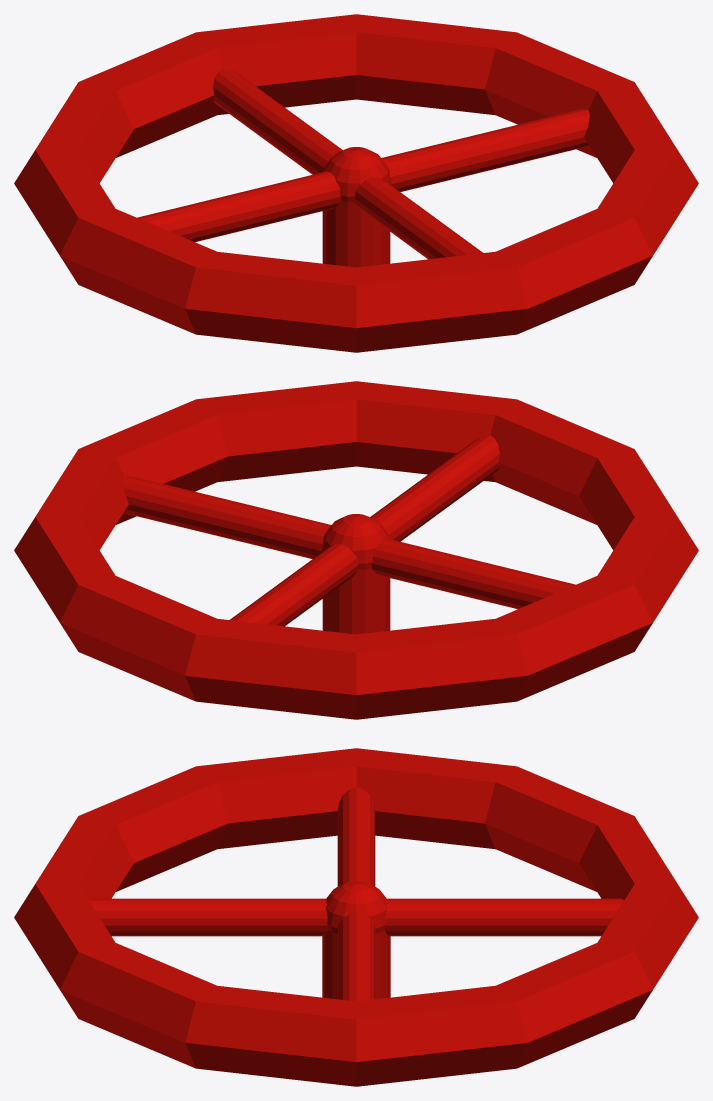
Rendered from Manivela.fbx.
The picture shows the model from 3 angles, top to bottom: view 1: azimuth 30°, elevation 25°; view 2: azimuth 150°, elevation 25°; view 3: azimuth 270°, elevation 25°; orthographic projection.
Visible parts, largest first — view 1: Cylinder.003; view 2: Cylinder.003; view 3: Cylinder.003.
Part boxes in pixels (bbox=[...]): Cylinder.003: bbox=[14, 14, 698, 352]; Cylinder.003: bbox=[14, 381, 698, 719]; Cylinder.003: bbox=[14, 748, 698, 1086].
Size of the model in its own units: 486 by 140 by 486.
